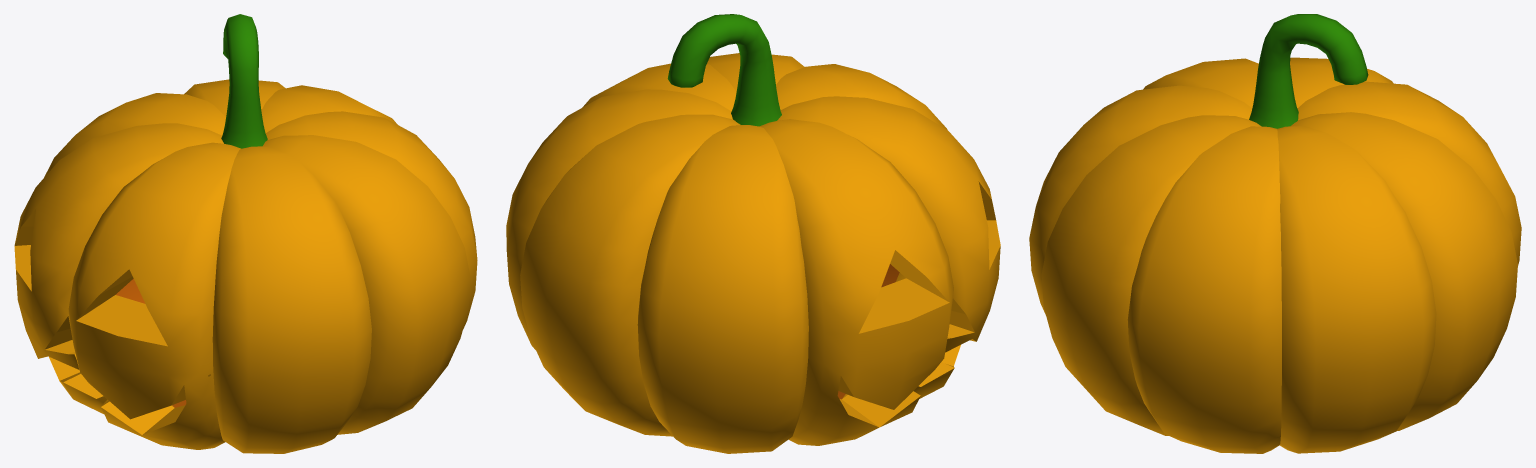
The model's file is Pumpkin.fbx.
3 renders of one model, left to right at view 1: azimuth 30°, elevation 25°; view 2: azimuth 150°, elevation 25°; view 3: azimuth 270°, elevation 25°, orthographic. The views are drawn at different scales.
Parts seen in each view (by area): view 1: Pumpkin1, Pumpkin2; view 2: Pumpkin1, Pumpkin2; view 3: Pumpkin1, Pumpkin2.
Part boxes in pixels (bbox=[...]): Pumpkin1: bbox=[14, 79, 477, 453]; Pumpkin2: bbox=[221, 14, 267, 148]; Pumpkin1: bbox=[506, 53, 1000, 453]; Pumpkin2: bbox=[667, 14, 781, 126]; Pumpkin1: bbox=[1029, 57, 1521, 453]; Pumpkin2: bbox=[1249, 14, 1368, 128].
Size of the model in its own units: 6.92 by 6.11 by 6.94.
